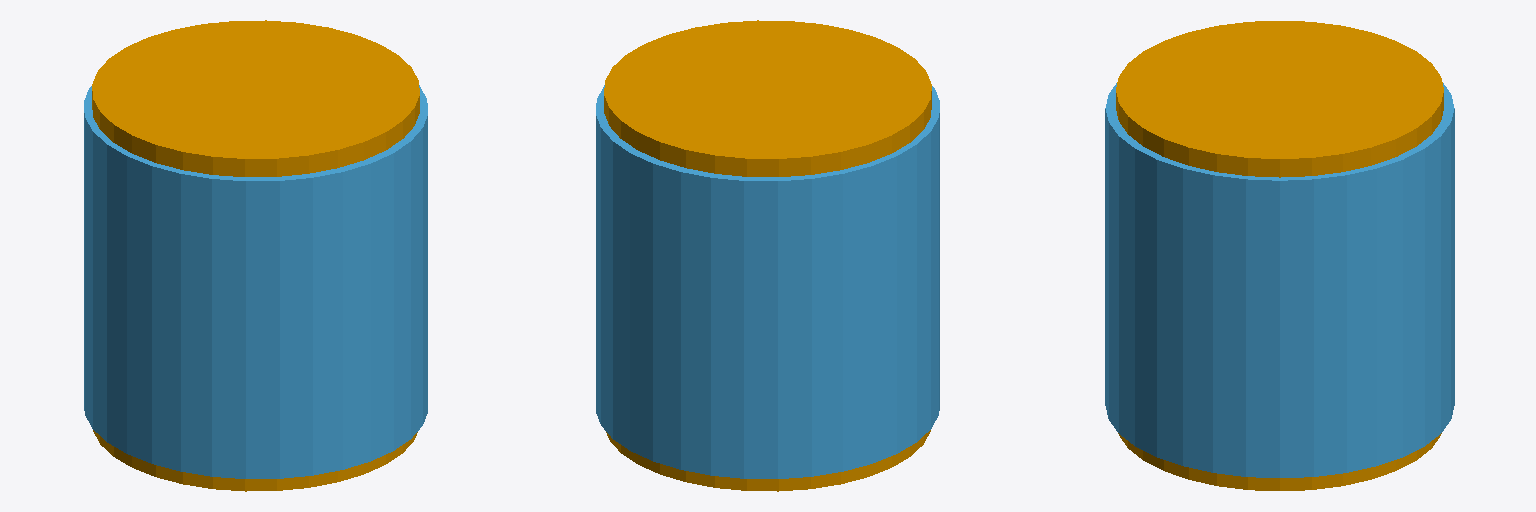
robot.urdf — blackBeanCan:
<?xml version="1.0"?>
<robot name="blackBeanCan">
  <link name="black">
    <inertial>
        <origin rpy="0 0 0" xyz="0 0 0"/>
        <mass value="0.01"/>
        <inertia ixx="4.4e-5" ixy="0" ixz="0" iyy="0" iyz="0" izz="4.4e-5"/>
    </inertial>
    <visual>
      <geometry>
        <mesh filename="BlackBeanCan.obj"/>
      </geometry>
    </visual>
    <collision>
      <geometry>
        <mesh filename="BlackBeanCan.obj"/>
      </geometry>
      <surface>
           <bounce restitution_coefficient = "0.1"/>
      </surface>
    </collision>
  </link>
  <link name="bean">
    <inertial>
        <origin rpy="0 0 0" xyz="0 0 0"/>
        <mass value="0.001"/>
        <inertia ixx="1.9e-5" ixy="0" ixz="0" iyy="6.8e-6" iyz="0" izz="1.2e-5"/>
    </inertial>
    <visual>
      <geometry>
        <mesh filename="BlackBeanCanLabel.obj"/>
      </geometry>
    </visual>
    <collision>
      <geometry>
        <mesh filename="BlackBeanCanLabel.obj"/>
      </geometry>
      <surface>
           <bounce restitution_coefficient = "0.1"/>
      </surface>
    </collision>
  </link>
  <joint name="black_to_bean" type="fixed">
    <parent link="black"/>
    <child link="bean"/>
    <origin rpy="0 0 0" xyz="0 0 0"/>
  </joint>
</robot>

--- What the picture shows (computed from the rendered views, not written in the file) ---
3 views of the same robot in one strip: view 1: azimuth 30°, elevation 25°; view 2: azimuth 150°, elevation 25°; view 3: azimuth 270°, elevation 25° (orthographic).
Robot: blackBeanCan — 2 links, 1 joints (1 fixed); root link black; default pose: every joint at zero.
Links seen in each view (by area): view 1: bean, black; view 2: bean, black; view 3: bean, black.
Link boxes in pixels (bbox=[...]): bean: bbox=[84, 85, 427, 478]; black: bbox=[92, 20, 419, 491]; bean: bbox=[596, 85, 939, 478]; black: bbox=[604, 20, 931, 491]; bean: bbox=[1105, 83, 1454, 477]; black: bbox=[1116, 21, 1443, 490].
Bounding box of the posed robot: 0.1058 × 0.1074 × 0.1128 m (x, y, z).
Meshes: 2 distinct files referenced, 2 mesh visuals loaded (2 OBJ).
